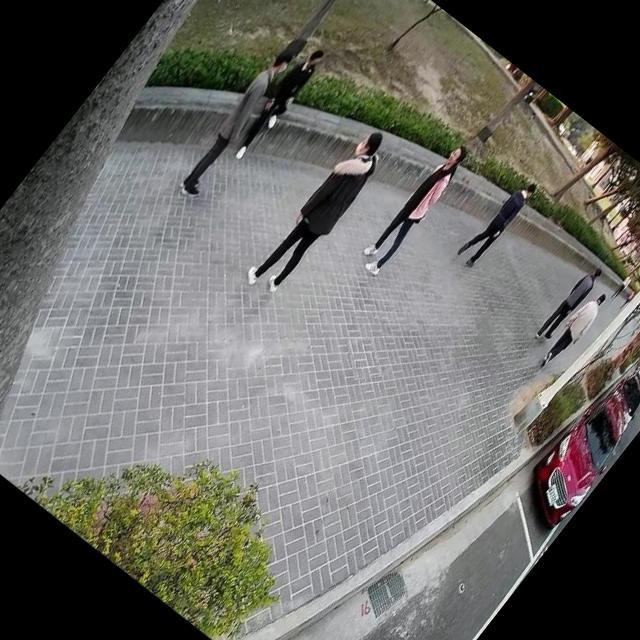person: (238, 112, 404, 306), (170, 36, 310, 202), (351, 130, 478, 282), (222, 36, 334, 170), (447, 166, 544, 278), (534, 280, 618, 378), (528, 255, 612, 352)
